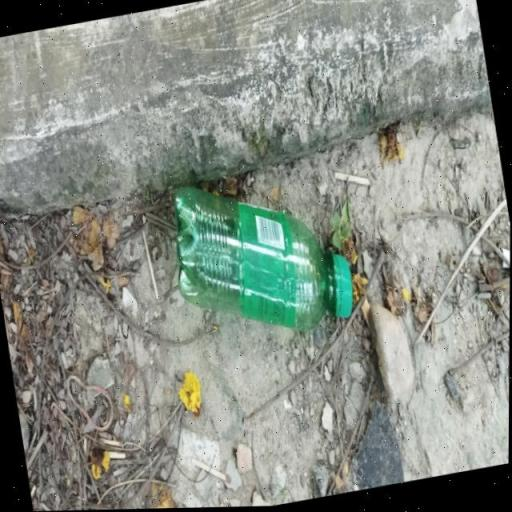plastic: (162, 159, 360, 355)
